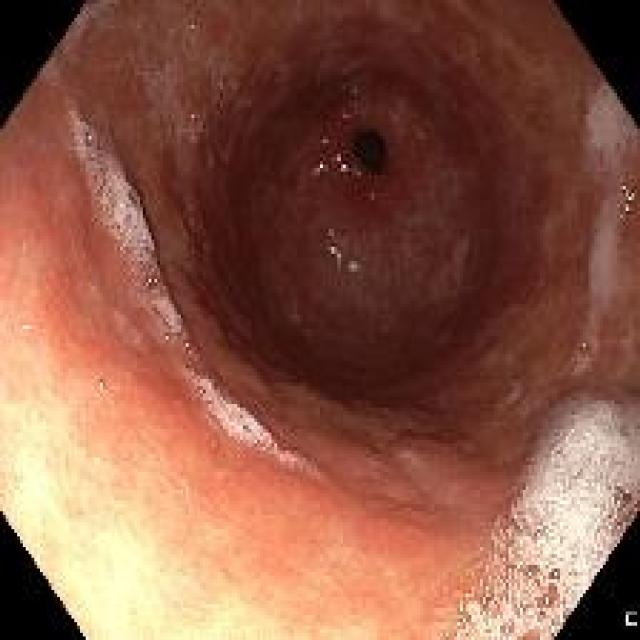bubbles: (67, 106, 188, 344), (507, 385, 638, 601), (460, 502, 570, 638), (197, 377, 284, 462), (585, 195, 627, 314), (583, 80, 631, 169), (283, 446, 318, 476), (212, 68, 243, 100), (566, 337, 594, 370), (178, 15, 197, 53), (144, 57, 160, 92), (186, 102, 200, 134), (159, 119, 179, 141), (188, 59, 203, 83), (616, 320, 631, 343), (138, 99, 148, 121), (170, 52, 180, 72)
contrast: (336, 102, 398, 189)
saturation: (8, 402, 162, 629)
specularity: (615, 179, 636, 223), (325, 228, 345, 268), (308, 155, 331, 183), (335, 151, 351, 176), (98, 378, 107, 391), (546, 594, 551, 608), (459, 600, 464, 613), (517, 605, 523, 615), (477, 578, 482, 589), (503, 626, 509, 635), (457, 628, 462, 638), (475, 571, 482, 578), (460, 616, 465, 625), (146, 279, 152, 286), (529, 569, 534, 577), (535, 530, 540, 537), (445, 630, 449, 638), (552, 570, 556, 578), (548, 617, 553, 623), (330, 247, 334, 253)
